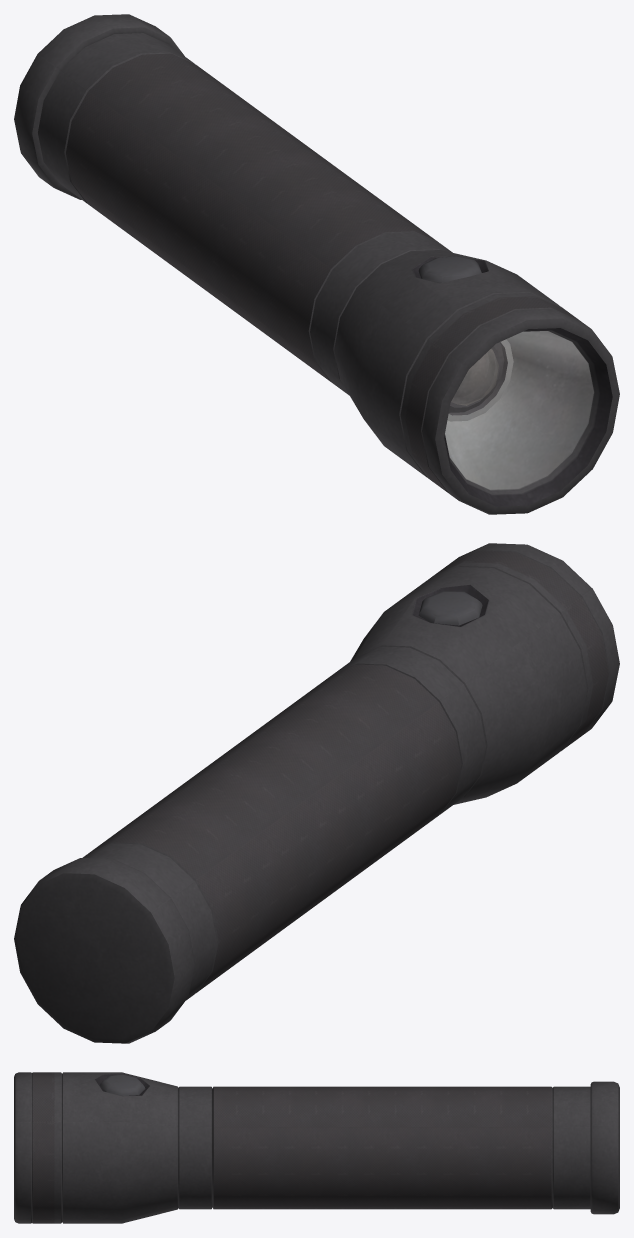
The model's file is old_flashlight.glb.
The picture shows the model from 3 angles, top to bottom: view 1: azimuth 30°, elevation 25°; view 2: azimuth 150°, elevation 25°; view 3: azimuth 270°, elevation 25°; orthographic projection. The views are drawn at different scales.
Visible parts, largest first — view 1: Object_2; view 2: Object_2; view 3: Object_2.
Boxes of the visible parts, box(x1,y1,x2,y2) form: Object_2: box(14, 14, 619, 514); Object_2: box(14, 543, 619, 1043); Object_2: box(14, 1072, 619, 1223).
Size of the model in its own units: 1.43 by 1.43 by 5.74.
Materials: 1 (1 with a texture image).
